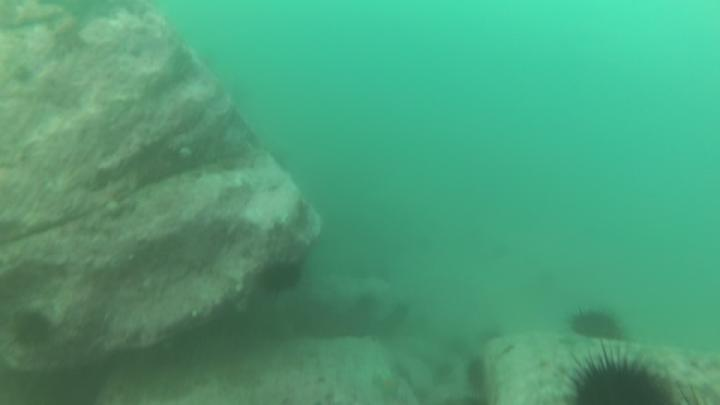echinus: (559, 343, 683, 405), (569, 306, 626, 347), (258, 256, 305, 300), (12, 306, 56, 352), (463, 356, 490, 393)
